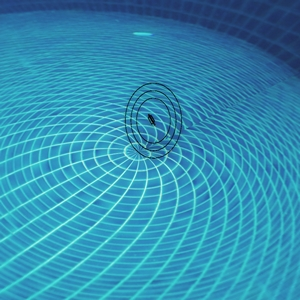circle: (116, 73, 185, 162)
